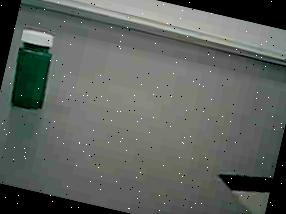Bottle C: (0, 17, 77, 128)
